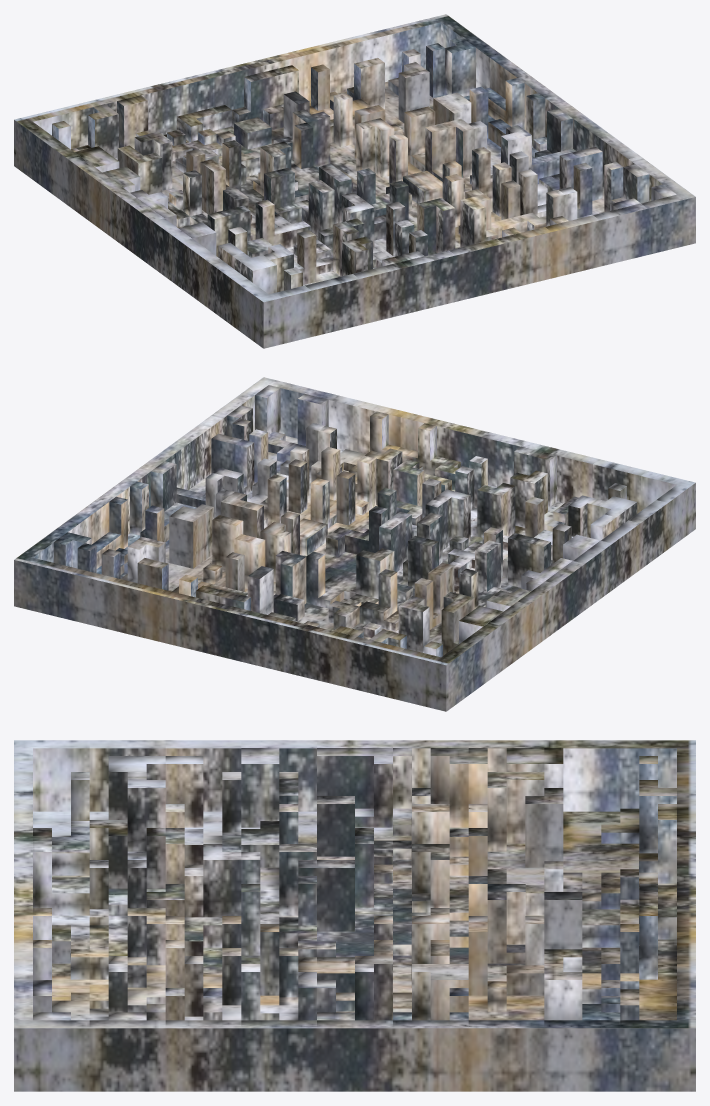
The picture shows the model from 3 angles, top to bottom: view 1: azimuth 30°, elevation 25°; view 2: azimuth 150°, elevation 25°; view 3: azimuth 270°, elevation 25°; orthographic projection. The views are drawn at different scales.
Parts seen in each view (by area): view 1: UCX_SM_MERGED_Floor_16.005; view 2: UCX_SM_MERGED_Floor_16.005; view 3: UCX_SM_MERGED_Floor_16.005.
Boxes of the visible parts, x1,y1,x2,y2 form: UCX_SM_MERGED_Floor_16.005: (14, 14, 695, 348); UCX_SM_MERGED_Floor_16.005: (14, 377, 695, 711); UCX_SM_MERGED_Floor_16.005: (14, 740, 695, 1091).
Bounding box in the file's own units: 36000 × 3707 × 36000.
1 material, 1 textured.
